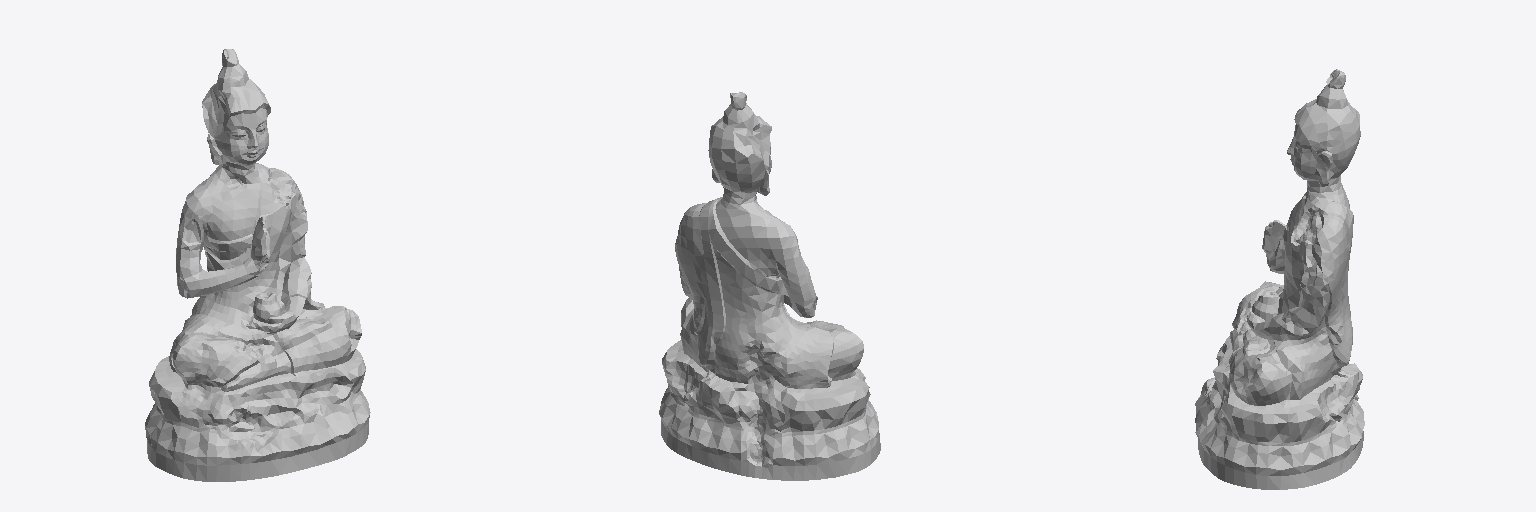
File: SM_Buddha.obj
3 views of the same model, side by side, from view 1: azimuth 30°, elevation 25°; view 2: azimuth 150°, elevation 25°; view 3: azimuth 270°, elevation 25° (orthographic).
Parts seen in each view (by area): view 1: SM_Buddha_RetopoFlow; view 2: SM_Buddha_RetopoFlow; view 3: SM_Buddha_RetopoFlow.
Boxes of the visible parts, x1=… form: SM_Buddha_RetopoFlow: x1=145, y1=49, x2=370, y2=481; SM_Buddha_RetopoFlow: x1=659, y1=92, x2=880, y2=480; SM_Buddha_RetopoFlow: x1=1195, y1=69, x2=1364, y2=489.
Size of the model in its own units: 1.75 by 3.05 by 1.27.